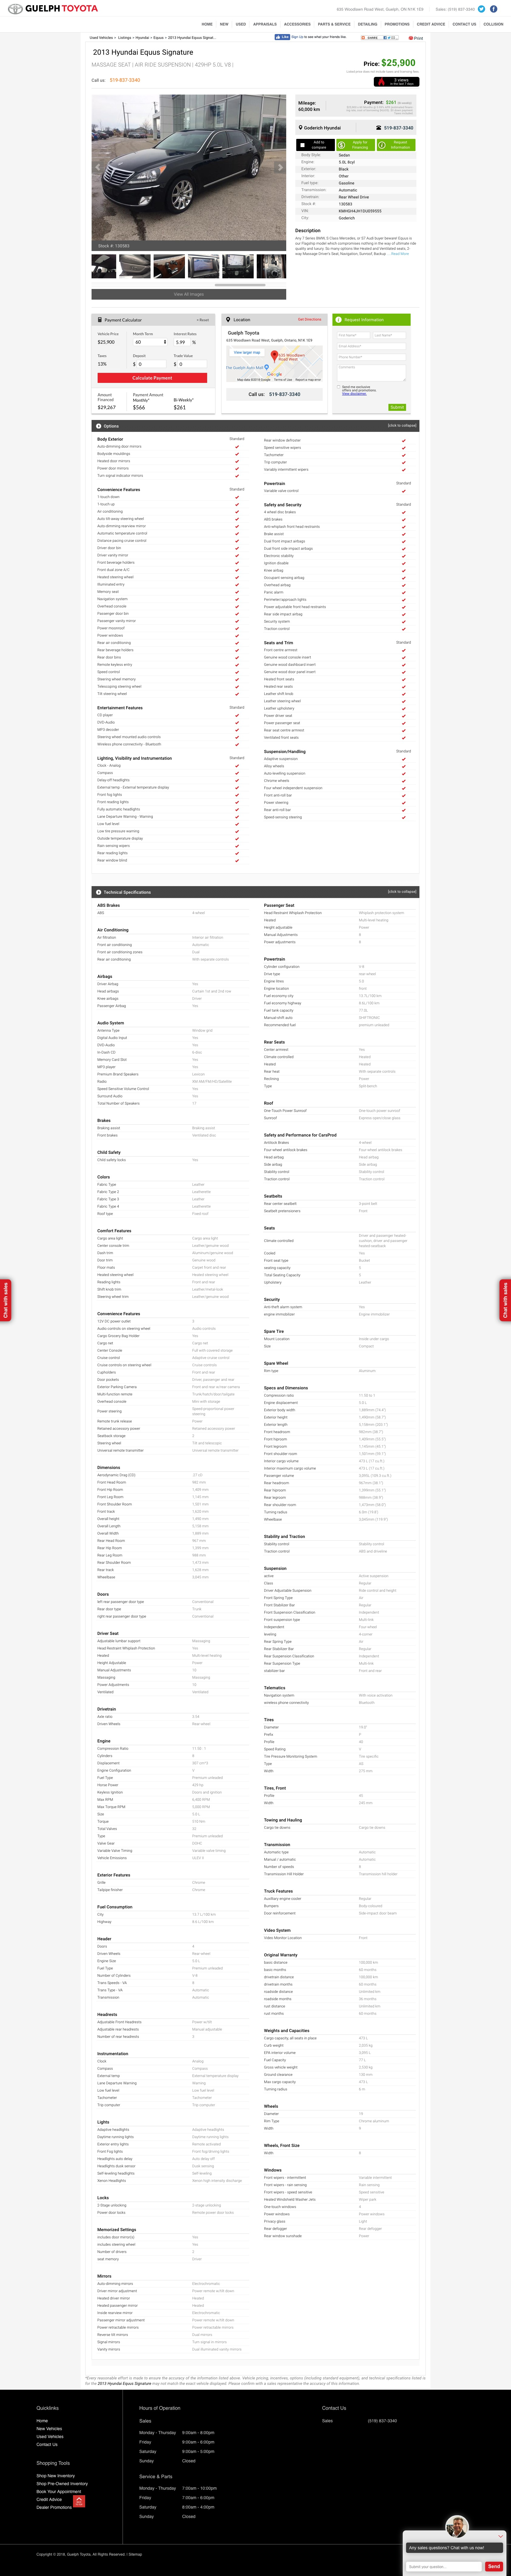car: (278, 164, 284, 172)
